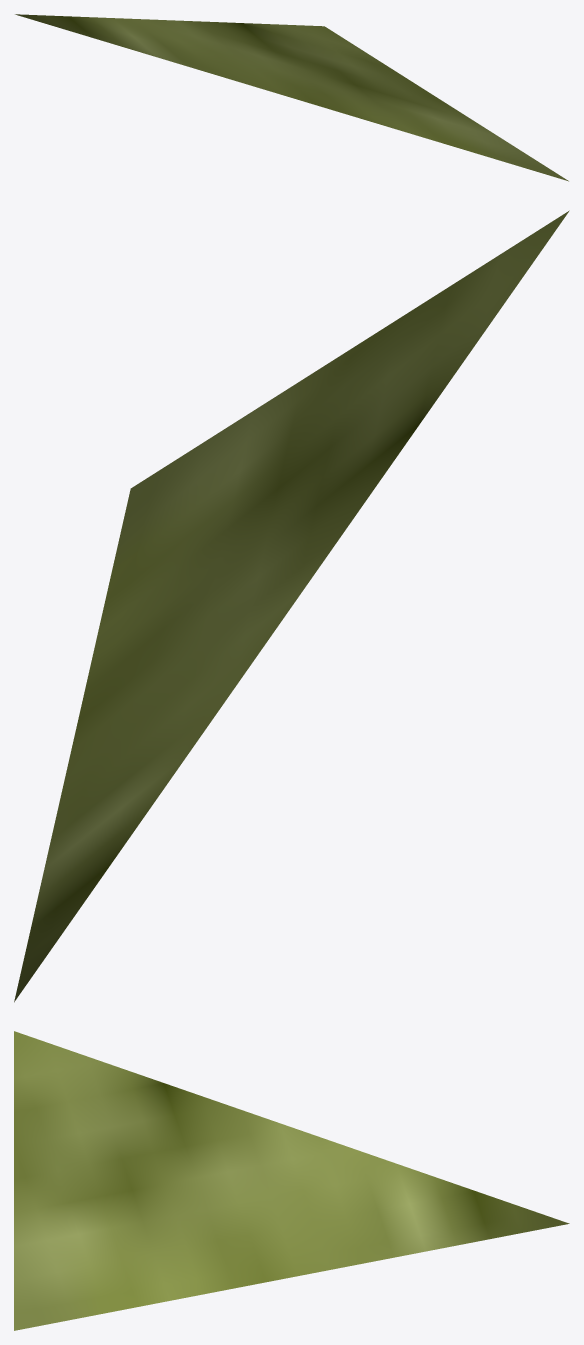
3 views of the same model, one above another, from view 1: azimuth 30°, elevation 25°; view 2: azimuth 150°, elevation 25°; view 3: azimuth 270°, elevation 25° (orthographic). The views are drawn at different scales.
Size of the model in its own units: 0.3257 by 0.2732 by 0.7141.
1 material, 1 textured.
